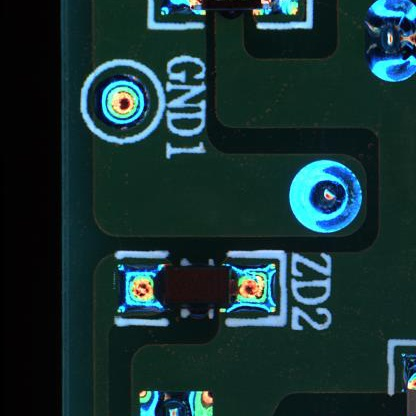spot: (283, 148, 375, 243), (88, 68, 159, 136)
